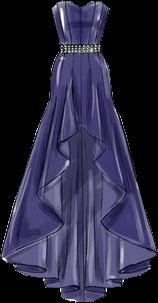Bodice: (52, 0, 109, 53)
Hemline: (1, 125, 155, 258)
Neckline: (51, 0, 110, 10), (58, 42, 101, 46)
Skirt: (2, 54, 157, 301)
Waistline: (56, 52, 102, 56)
